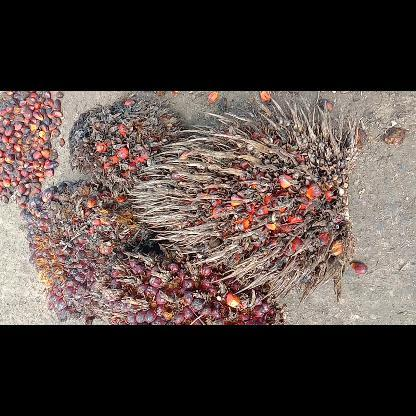TBS masak: (22, 180, 156, 320), (100, 246, 284, 324)
Terlalu masak: (129, 96, 359, 302), (68, 99, 186, 195)
